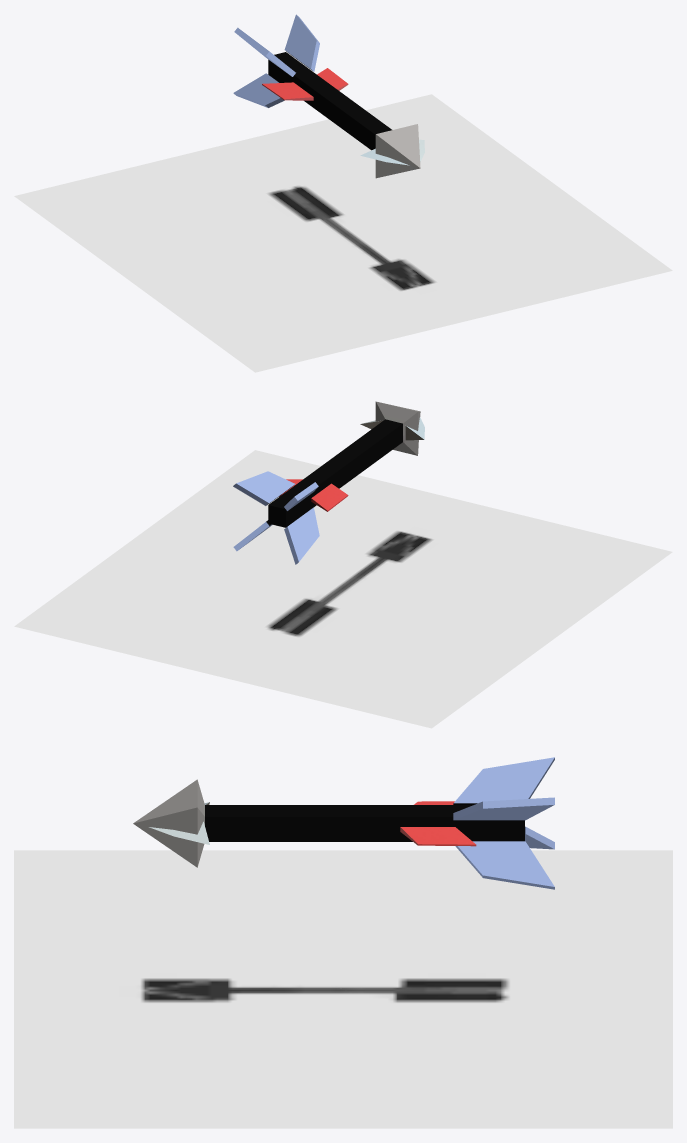
The model's file is arrow_normal.fbx.
The picture shows the model from 3 angles, top to bottom: view 1: azimuth 30°, elevation 25°; view 2: azimuth 150°, elevation 25°; view 3: azimuth 270°, elevation 25°; orthographic projection. The views are drawn at different scales.
Visible parts, largest first — view 1: shadow, child, Public_Weapon05; view 2: shadow, child, Public_Weapon05; view 3: shadow, child, Public_Weapon05.
Boxes of the visible parts, left/top/right/bottom form: shadow: left=14, top=94, right=672, bottom=372; child: left=233, top=14, right=420, bottom=178; Public_Weapon05: left=262, top=68, right=424, bottom=165; shadow: left=14, top=450, right=672, bottom=728; child: left=233, top=401, right=420, bottom=564; Public_Weapon05: left=279, top=417, right=424, bottom=511; shadow: left=14, top=850, right=672, bottom=1128; child: left=133, top=757, right=554, bottom=889; Public_Weapon05: left=149, top=801, right=476, bottom=846.
Size of the model in its own units: 180 by 64.31 by 180.
Materials: 3 (3 with a texture image).
